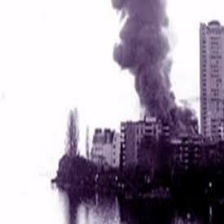smoke: (112, 1, 195, 127)
